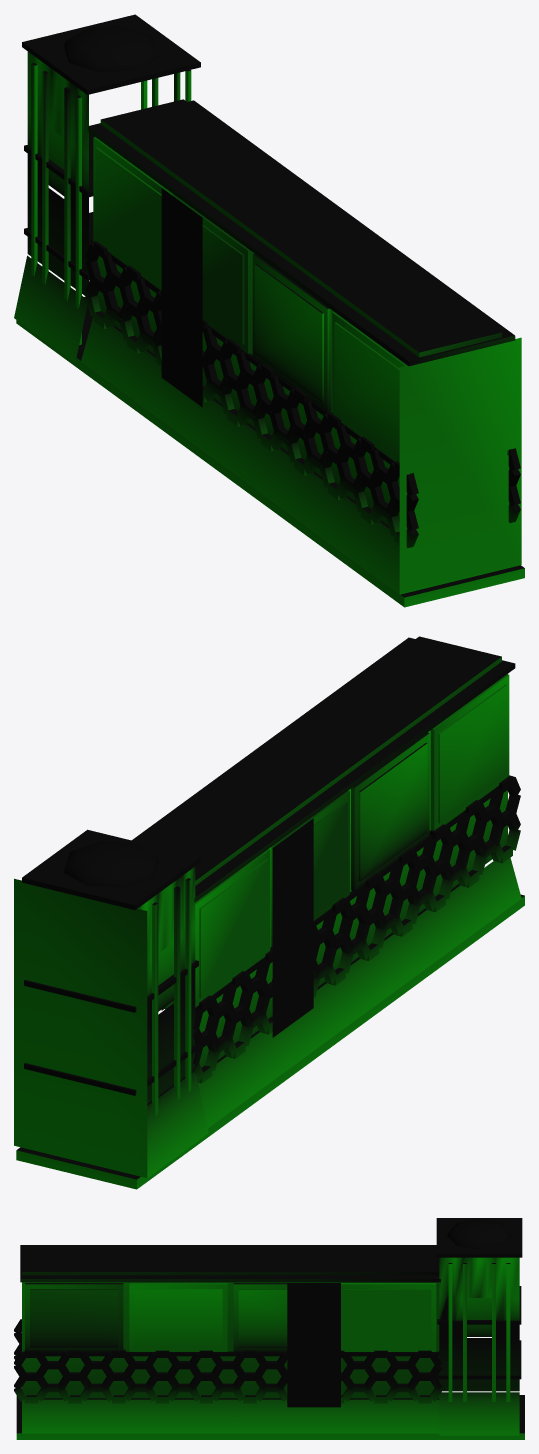
Rendered from d_mediumwall.glb.
3 renders of one model, top to bottom at view 1: azimuth 30°, elevation 25°; view 2: azimuth 150°, elevation 25°; view 3: azimuth 270°, elevation 25°, orthographic. The views are drawn at different scales.
Visible parts, largest first — view 1: lod0; view 2: lod0; view 3: lod0.
Boxes of the visible parts, x1,y1,x2,y2 form: lod0: (14, 14, 524, 607); lod0: (14, 636, 524, 1189); lod0: (14, 1218, 524, 1439).
Size of what is drawn, in the model's own units: 5.65 by 12.1 by 28.6.
